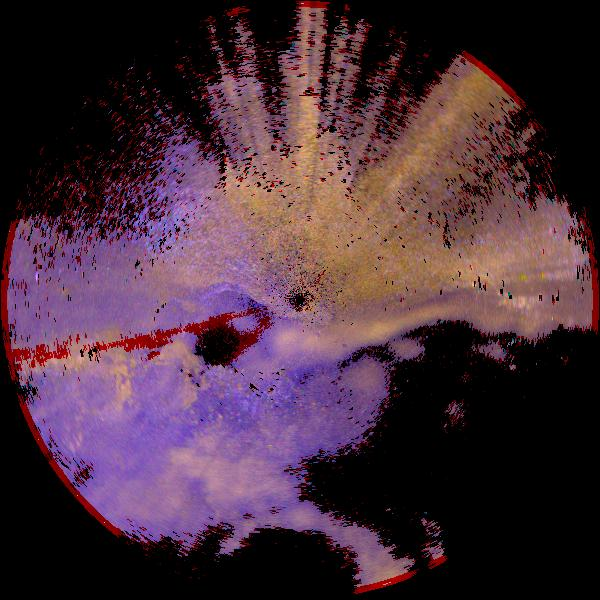roost: (131, 334, 212, 415), (68, 356, 140, 428)
